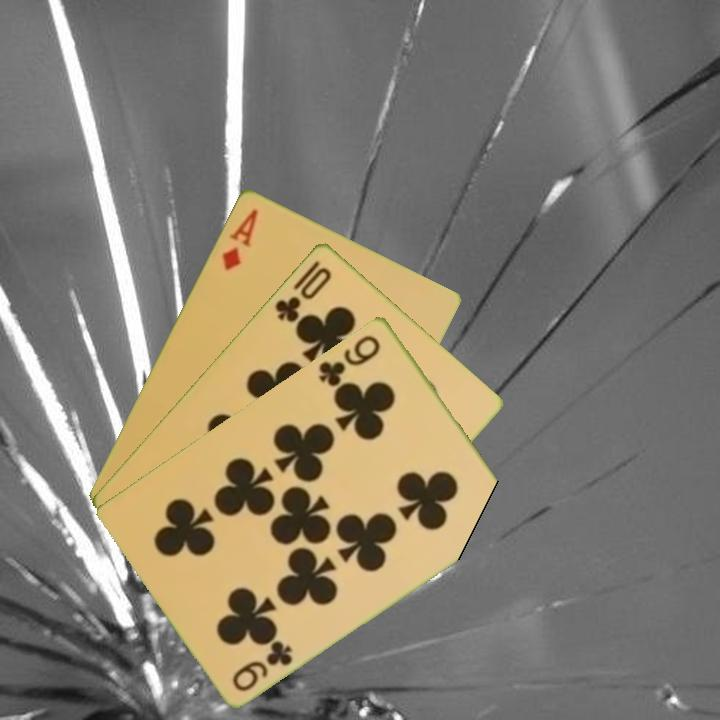10c: (271, 256, 335, 325)
9c: (315, 330, 384, 389), (228, 636, 296, 694)
Ad: (218, 204, 261, 273)
